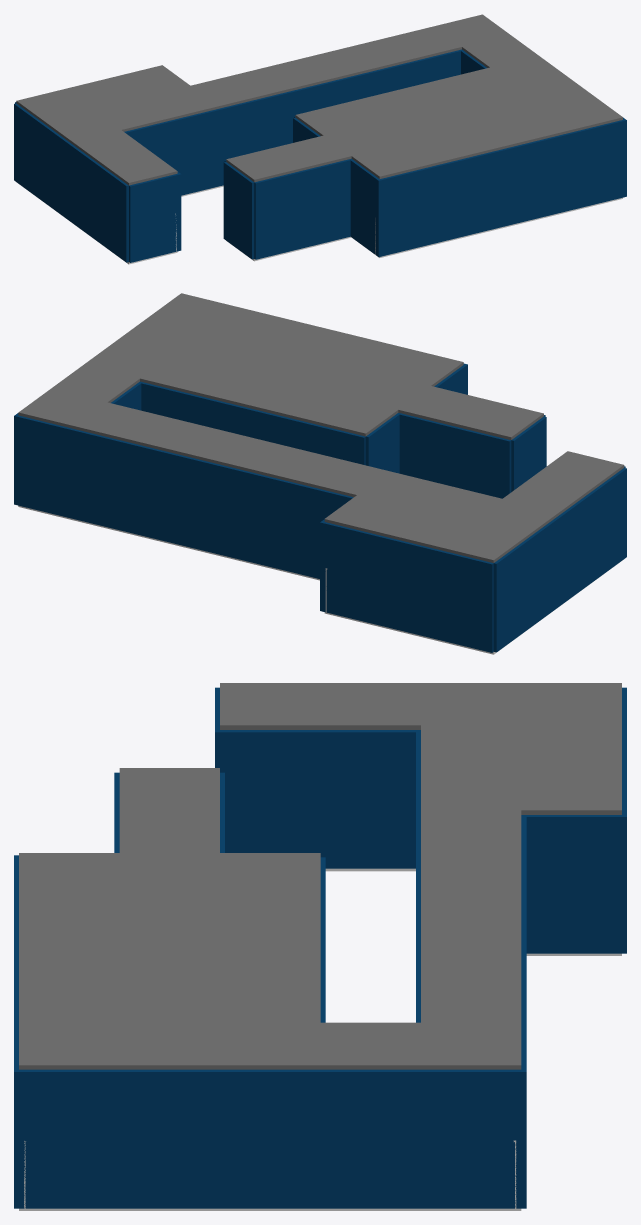
Rendered from Day1Sarch.fbx.
3 renders of one model, top to bottom at view 1: azimuth 30°, elevation 25°; view 2: azimuth 150°, elevation 25°; view 3: azimuth 270°, elevation 25°, orthographic. The views are drawn at different scales.
Parts seen in each view (by area): view 1: Wall.008, Wall.012, Ceiling.007, Wall.018, Ceiling, Ceiling.004, Ceiling.016, Ceiling.008, Ceiling.003, Wall.002, Wall.017, WallWindow.001 (+7 smaller); view 2: Wall.010, Ceiling.007, Wall.016, WallWindow.004, Wall.018, Ceiling, Ceiling.003, Ceiling.016, Ceiling.004, Ceiling.008, Wall, Wall.005 (+7 smaller); view 3: Wall.009, Ceiling.007, Ceiling, Wall.019, Ceiling.008, Ceiling.016, Ceiling.003, Ceiling.004, WallWindow.002, Wall.015, Wall.011, Ceiling.014 (+6 smaller).
Boxes of the visible parts, left/top/right/bottom form: Wall.008: left=375, top=119, right=626, bottom=256; Wall.012: left=168, top=50, right=460, bottom=195; Ceiling.007: left=93, top=14, right=509, bottom=131; Wall.018: left=14, top=103, right=128, bottom=262; Ceiling: left=226, top=88, right=545, bottom=182; Ceiling.004: left=351, top=108, right=574, bottom=178; Ceiling.016: left=16, top=89, right=177, bottom=185; Ceiling.008: left=462, top=35, right=622, bottom=131; Ceiling.003: left=295, top=67, right=517, bottom=135; Wall.002: left=254, top=170, right=304, bottom=259; Wall.017: left=129, top=174, right=178, bottom=262; WallWindow.001: left=303, top=159, right=351, bottom=247; Wall.010: left=14, top=415, right=190, bottom=546; Ceiling.007: left=18, top=388, right=502, bottom=522; Wall.016: left=323, top=522, right=493, bottom=652; WallWindow.004: left=189, top=457, right=353, bottom=578; Wall.018: left=493, top=468, right=626, bottom=652; Ceiling: left=173, top=331, right=543, bottom=439; Ceiling.003: left=140, top=354, right=398, bottom=436; Ceiling.016: left=437, top=451, right=624, bottom=562; Ceiling.004: left=205, top=307, right=463, bottom=386; Ceiling.008: left=51, top=293, right=237, bottom=402; Wall: left=398, top=413, right=511, bottom=498; Wall.005: left=139, top=382, right=365, bottom=465; Wall.009: left=19, top=1069, right=320, bottom=1208; Ceiling.007: left=421, top=725, right=521, bottom=1069; Ceiling: left=119, top=768, right=219, bottom=1022; Wall.019: left=215, top=728, right=420, bottom=868; Ceiling.008: left=19, top=1022, right=420, bottom=1069; Ceiling.016: left=220, top=683, right=621, bottom=729; Ceiling.003: left=220, top=853, right=320, bottom=1022; Ceiling.004: left=19, top=853, right=119, bottom=1022; WallWindow.002: left=320, top=1069, right=420, bottom=1208; Wall.015: left=521, top=813, right=626, bottom=953; Wall.011: left=421, top=1069, right=521, bottom=1208; Ceiling.014: left=521, top=725, right=621, bottom=814.
Bounding box in the file's own units: 1820 × 320 × 1220.
